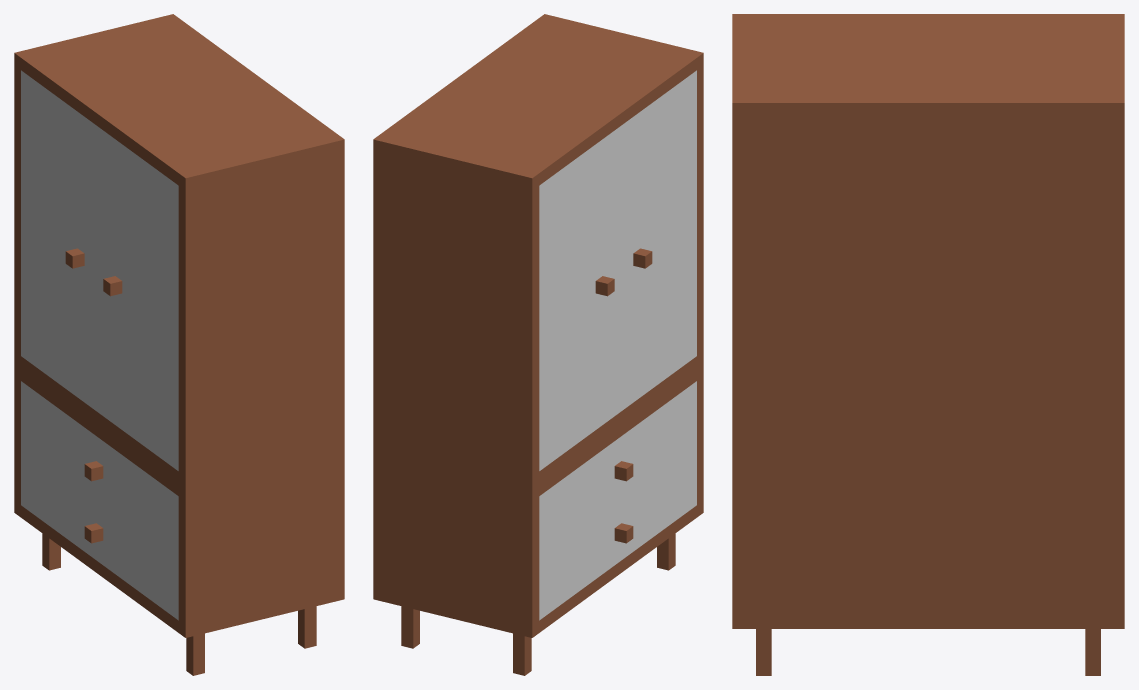
Rendered from Armari Alt.fbx.
3 views of the same model, side by side, from view 1: azimuth 30°, elevation 25°; view 2: azimuth 150°, elevation 25°; view 3: azimuth 270°, elevation 25° (orthographic). The views are drawn at different scales.
Parts seen in each view (by area): view 1: Cube.092, Cube.099, Cube.100, Cube.093, Cube.098; view 2: Cube.092, Cube.099, Cube.100, Cube.098, Cube.093; view 3: Cube.092.
Part boxes in pixels (x1,y1,x2,y2): Cube.092: [14, 14, 344, 675]; Cube.099: [100, 128, 178, 470]; Cube.100: [21, 70, 99, 413]; Cube.093: [21, 443, 178, 620]; Cube.098: [21, 381, 178, 557]; Cube.092: [373, 14, 703, 675]; Cube.099: [618, 70, 696, 413]; Cube.100: [539, 128, 617, 470]; Cube.098: [539, 381, 696, 557]; Cube.093: [539, 443, 696, 620]; Cube.092: [732, 14, 1124, 675].
Bounding box in the file's own units: 2.88 × 8.2 × 5.
